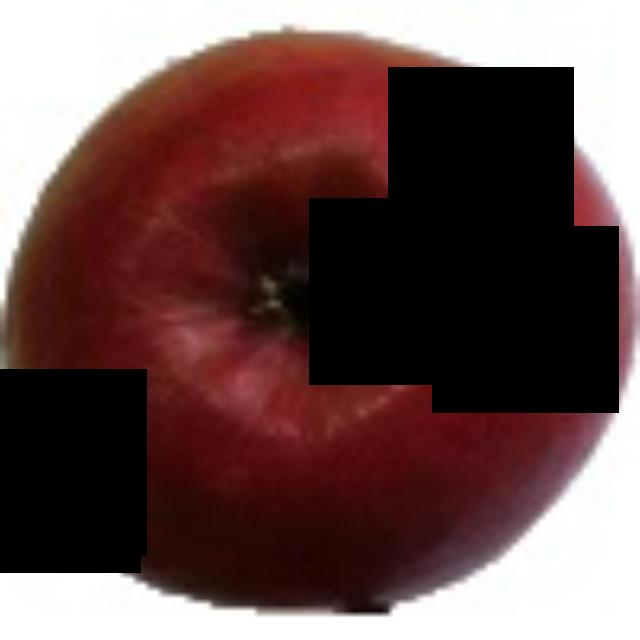apple: (0, 25, 634, 621)
